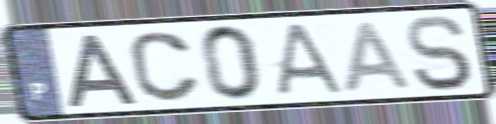0: (197, 23, 267, 103)
A: (269, 21, 348, 99), (64, 32, 140, 109), (342, 19, 415, 95)
C: (125, 29, 204, 104)
S: (403, 12, 476, 93)
